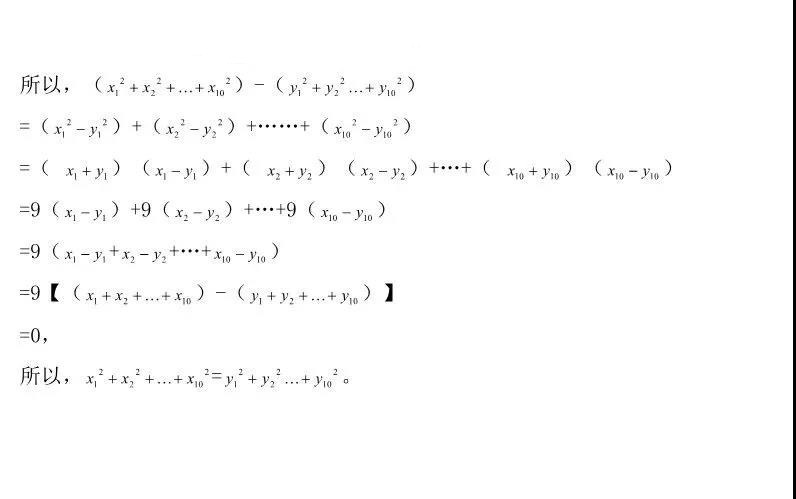square: (348, 115, 360, 127), (99, 117, 110, 127), (152, 74, 161, 86), (215, 116, 224, 128), (177, 116, 187, 126), (134, 367, 143, 378), (236, 366, 243, 379), (224, 75, 231, 87), (336, 78, 348, 85), (396, 76, 405, 85), (95, 367, 104, 376), (331, 366, 340, 375), (65, 116, 72, 127), (203, 366, 210, 377), (274, 367, 282, 376), (117, 78, 125, 85), (302, 74, 307, 85), (391, 116, 396, 127)
